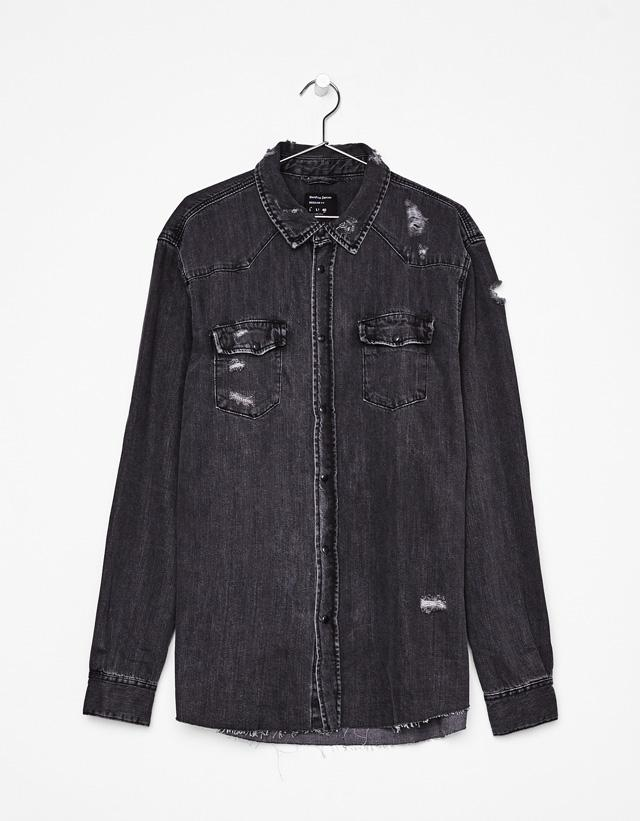teeshirt: (80, 137, 565, 741)
